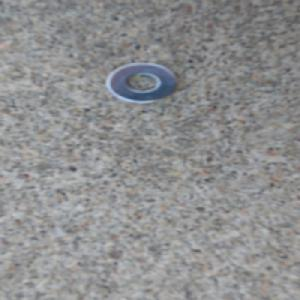Washer: (101, 60, 179, 105)
